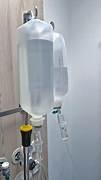Iv_Bottle: (17, 18, 53, 119), (53, 32, 67, 106)
